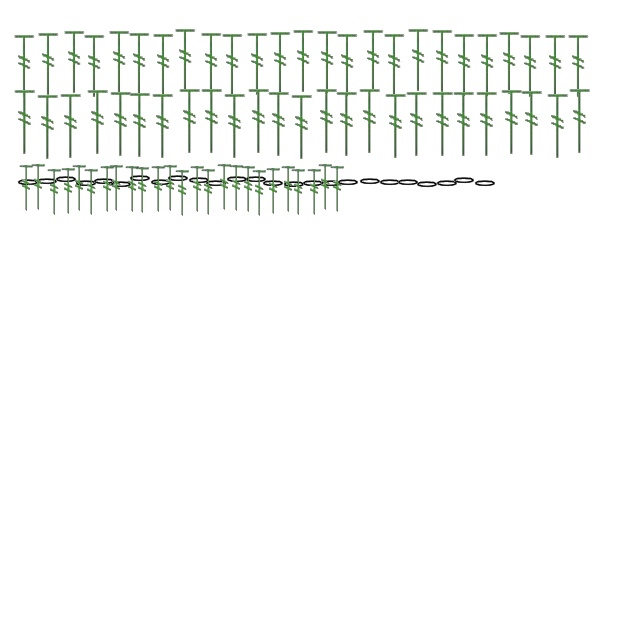chain: (16, 178, 40, 188), (109, 180, 133, 190), (128, 174, 152, 184), (149, 178, 173, 188), (166, 174, 190, 184), (187, 176, 211, 186), (282, 180, 306, 190), (336, 178, 360, 188), (378, 178, 402, 188), (396, 178, 420, 188), (415, 180, 439, 190), (452, 176, 476, 186), (35, 178, 59, 186), (54, 176, 78, 184), (74, 180, 98, 188), (92, 178, 116, 186), (204, 180, 228, 188), (225, 176, 249, 184), (244, 176, 268, 184), (261, 180, 285, 188), (301, 180, 325, 188), (319, 180, 343, 188), (358, 178, 382, 186), (435, 180, 459, 188), (473, 180, 497, 188)
fan: (12, 88, 38, 156), (35, 93, 61, 161), (58, 92, 84, 160), (85, 88, 111, 156), (108, 90, 134, 158), (127, 91, 153, 159), (150, 92, 176, 160), (177, 87, 203, 155), (199, 87, 225, 155), (222, 92, 248, 160), (246, 87, 272, 155), (266, 90, 292, 158), (289, 93, 315, 161), (314, 87, 340, 155), (334, 90, 360, 158), (357, 87, 383, 155), (383, 92, 409, 160), (404, 90, 430, 158), (430, 90, 456, 158), (451, 90, 477, 158), (474, 90, 500, 158), (499, 88, 525, 156), (519, 89, 545, 157), (545, 92, 571, 160), (567, 87, 593, 155), (12, 33, 38, 99), (36, 31, 62, 97), (62, 29, 88, 95), (82, 33, 108, 99), (220, 32, 246, 98), (268, 30, 294, 96), (382, 32, 408, 98), (406, 27, 432, 93), (430, 28, 456, 94), (452, 32, 478, 98), (518, 33, 544, 99), (566, 33, 592, 99), (108, 29, 132, 95), (128, 31, 152, 97), (152, 32, 176, 98), (174, 27, 198, 93), (200, 31, 224, 97), (246, 31, 270, 97), (292, 28, 316, 94), (316, 29, 340, 95), (336, 32, 360, 98), (362, 28, 386, 94), (476, 32, 500, 98), (498, 30, 522, 96), (544, 33, 568, 99), (18, 164, 34, 212), (30, 163, 46, 211), (46, 168, 62, 216), (60, 167, 76, 215), (71, 164, 87, 212), (83, 168, 99, 216), (99, 165, 115, 213), (108, 164, 124, 212), (124, 165, 140, 213), (134, 166, 150, 214), (150, 165, 166, 213), (162, 164, 178, 212), (174, 169, 190, 217), (189, 165, 205, 213), (200, 168, 216, 216), (216, 163, 232, 211), (228, 164, 244, 212), (240, 165, 256, 213), (251, 169, 267, 217), (265, 167, 281, 215), (280, 165, 296, 213), (290, 168, 306, 216), (306, 168, 322, 216), (317, 163, 333, 211), (329, 165, 345, 213)
